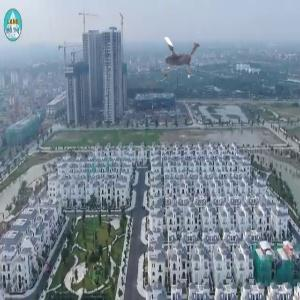drone: (139, 13, 215, 89)
